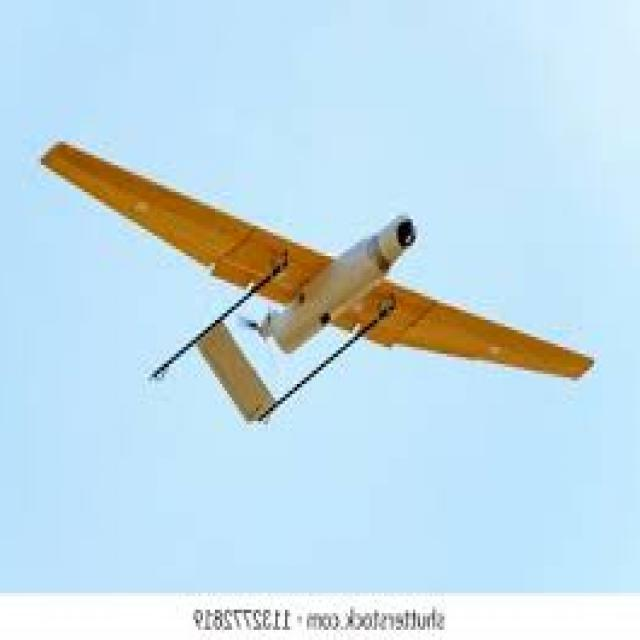iha: (43, 135, 602, 457)
